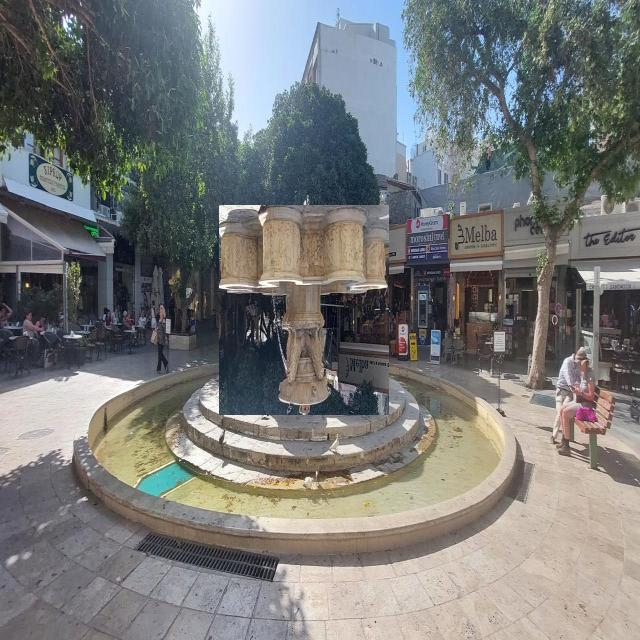Liontaria: (221, 206, 391, 416)
